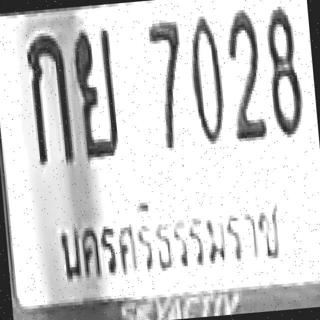A01: (23, 32, 71, 162)
A34: (70, 24, 120, 158)
N00: (186, 12, 227, 145)
N02: (224, 7, 266, 140)
N07: (146, 18, 188, 151)
N08: (262, 2, 304, 136)
P32: (52, 180, 292, 290)
